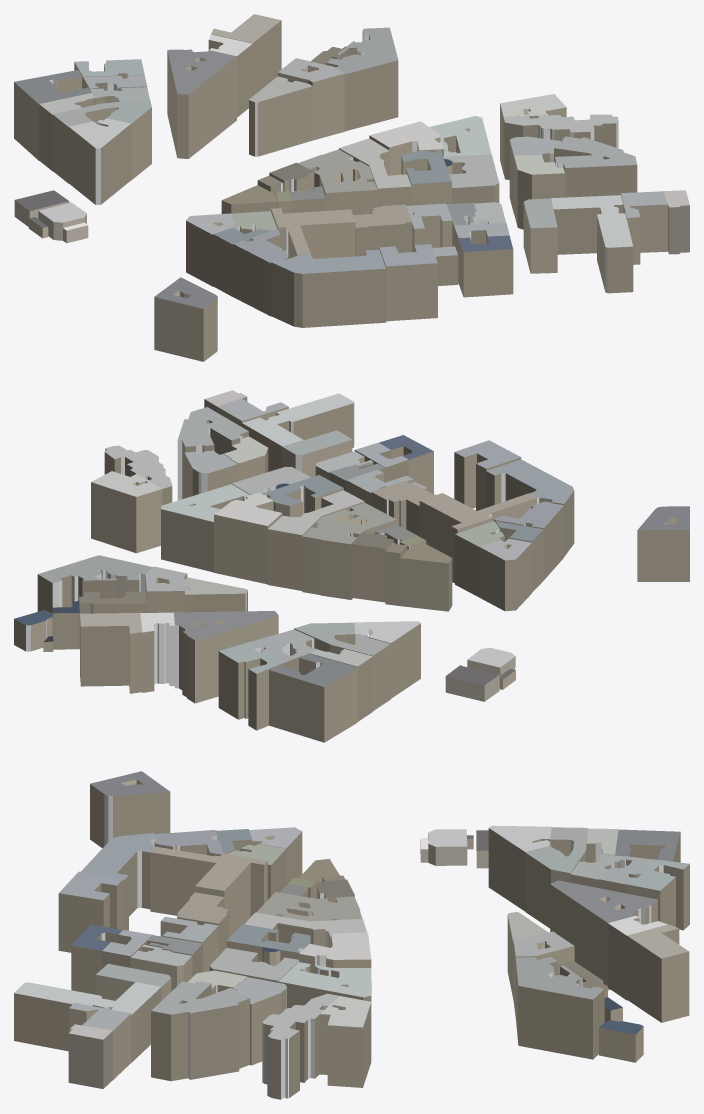
The picture shows the model from 3 angles, top to bottom: view 1: azimuth 30°, elevation 25°; view 2: azimuth 150°, elevation 25°; view 3: azimuth 270°, elevation 25°; orthographic projection. The views are drawn at different scales.
Visible parts, largest first — view 1: tuile; view 2: tuile; view 3: tuile.
Part boxes in pixels (x1,y1,x2,y2): tuile: (14, 14, 689, 361); tuile: (14, 390, 689, 742); tuile: (14, 771, 689, 1099).
Bounding box in the file's own units: 269 × 33.92 × 282.
